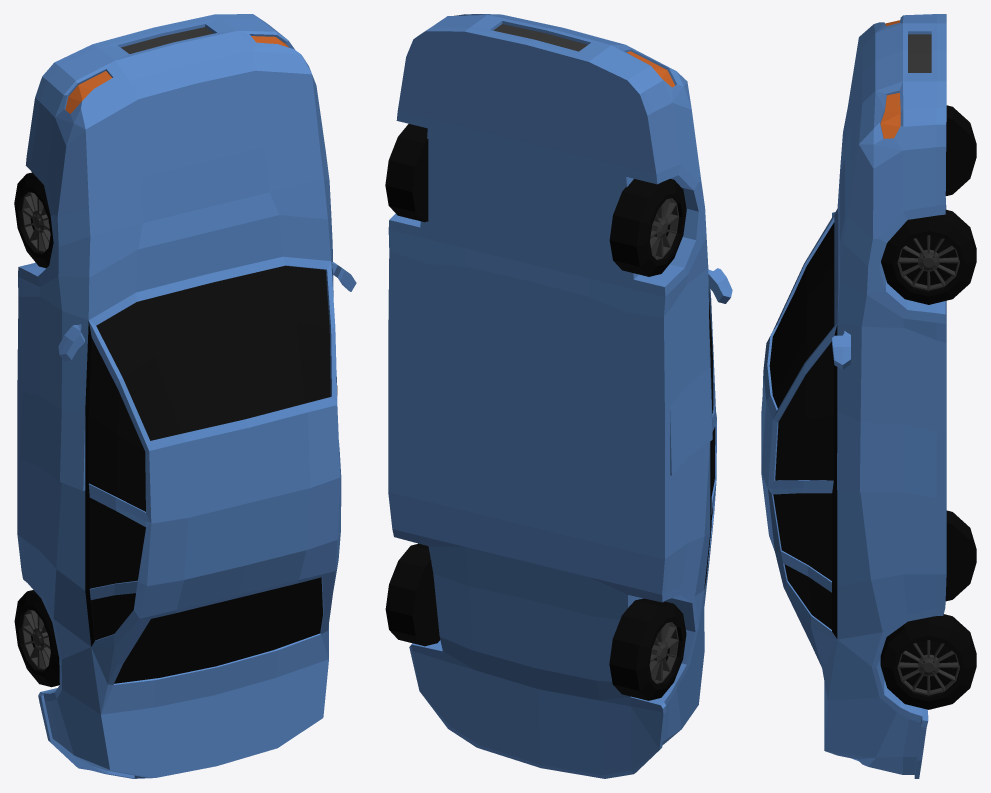
File: NormalCar1.glb
The picture shows the model from 3 angles, left to right: view 1: azimuth 30°, elevation 25°; view 2: azimuth 150°, elevation 25°; view 3: azimuth 270°, elevation 25°; orthographic projection. The views are drawn at different scales.
Visible parts, largest first — view 1: NormalCar1, NormalCar1_BackWheels, NormalCar1_FrontLeftWheel; view 2: NormalCar1, NormalCar1_BackWheels, NormalCar1_FrontLeftWheel, NormalCar1_FrontRightWheel; view 3: NormalCar1, NormalCar1_BackWheels, NormalCar1_FrontRightWheel, NormalCar1_FrontLeftWheel.
Boxes of the visible parts, x1,y1,x2,y2 form: NormalCar1: (17, 14, 356, 778); NormalCar1_BackWheels: (14, 590, 59, 687); NormalCar1_FrontLeftWheel: (14, 172, 53, 268); NormalCar1: (388, 14, 732, 778); NormalCar1_BackWheels: (385, 543, 686, 700); NormalCar1_FrontLeftWheel: (609, 179, 686, 276); NormalCar1_FrontRightWheel: (385, 124, 428, 222); NormalCar1: (761, 14, 946, 778); NormalCar1_BackWheels: (880, 510, 976, 709); NormalCar1_FrontRightWheel: (881, 209, 976, 304); NormalCar1_FrontLeftWheel: (945, 105, 976, 195).
Size of the model in its own units: 181 by 422 by 118.
